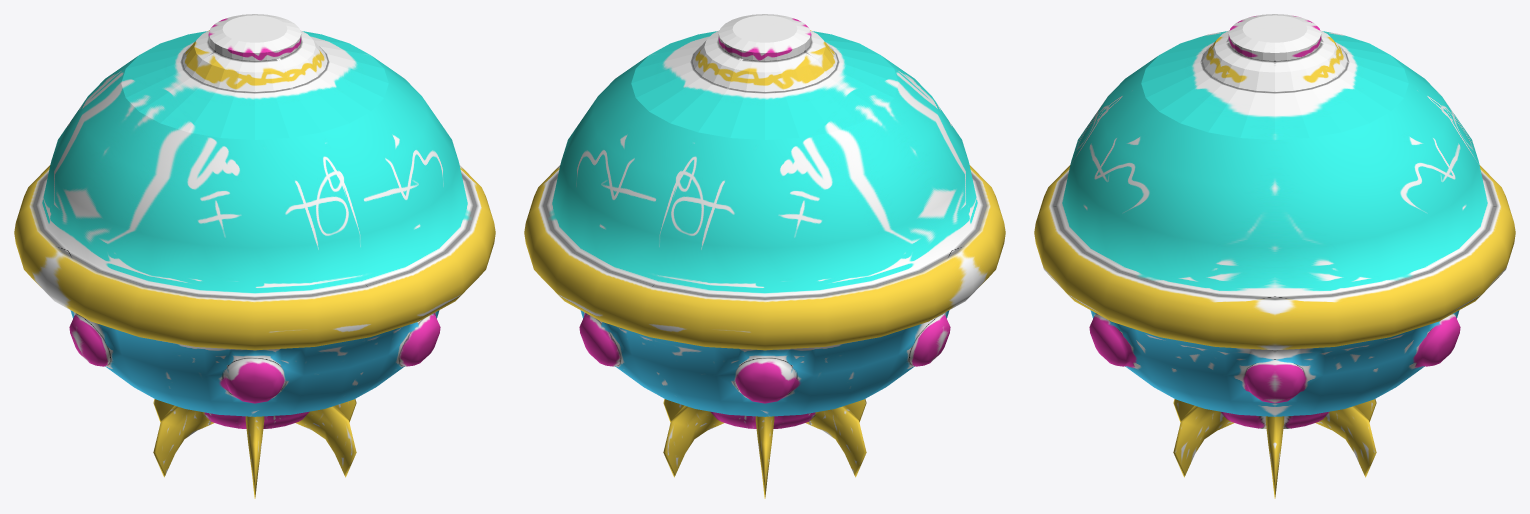
Rendered from feichuan_J.FBX.
The picture shows the model from 3 angles, left to right: view 1: azimuth 30°, elevation 25°; view 2: azimuth 150°, elevation 25°; view 3: azimuth 270°, elevation 25°; orthographic projection.
Parts seen in each view (by area): view 1: feichuan_J; view 2: feichuan_J; view 3: feichuan_J.
Boxes of the visible parts, <box> form: feichuan_J: <box>14,14,495,498</box>; feichuan_J: <box>524,14,1005,498</box>; feichuan_J: <box>1034,14,1515,498</box>.
Size of the model in its own units: 169 by 165 by 169.
Materials: 1 (1 with a texture image).
